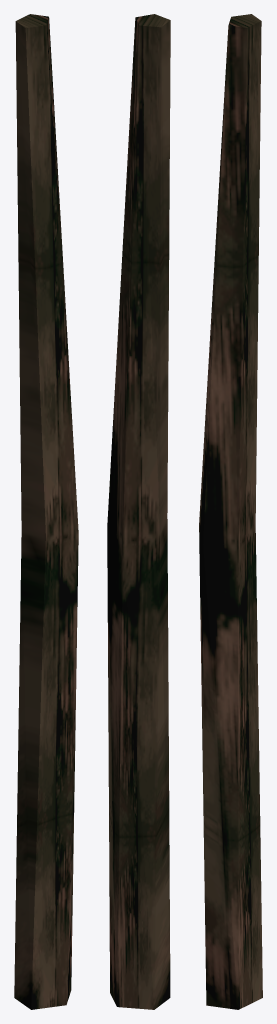
3 renders of one model, left to right at view 1: azimuth 90°, elevation 25°; view 2: azimuth 210°, elevation 25°; view 3: azimuth 270°, elevation 25°, orthographic.
Visible parts, largest first — view 1: BT_3; view 2: BT_3; view 3: BT_3.
Boxes of the visible parts, left/top/right/bottom form: BT_3: left=14, top=14, right=78, bottom=1009; BT_3: left=107, top=14, right=170, bottom=1009; BT_3: left=199, top=14, right=262, bottom=1009.
Size of the model in its own units: 1.36 by 23.61 by 1.4.
Materials: 1 (1 with a texture image).
